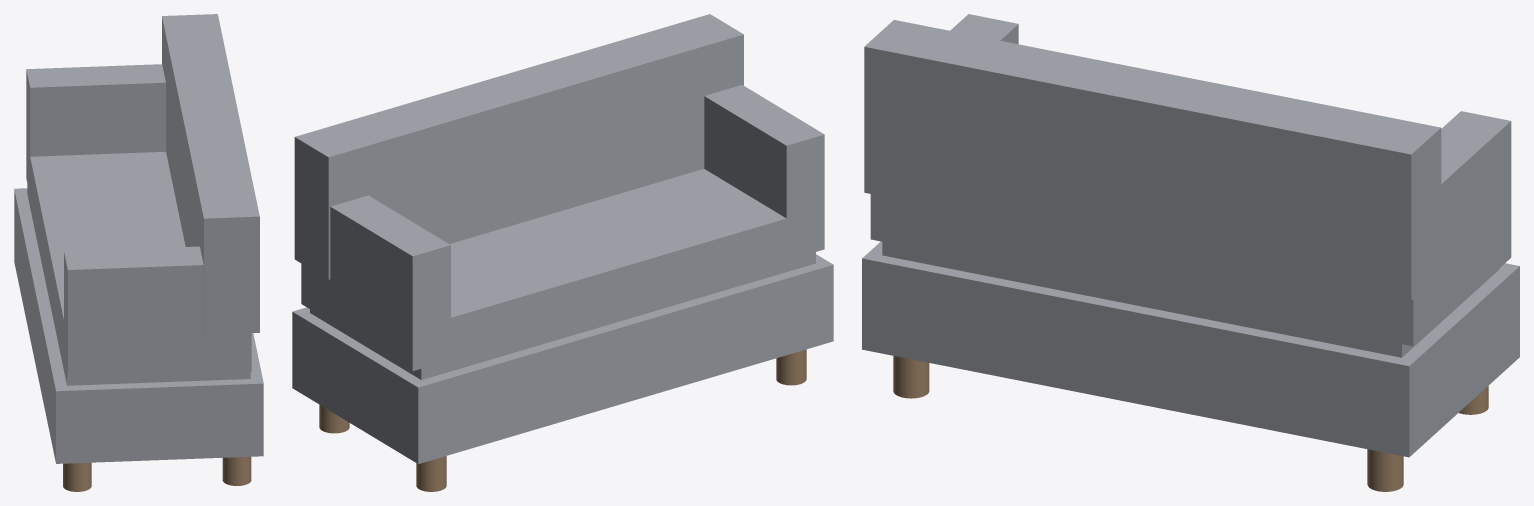
Rendered from beso-velvet-sofa-3-seater.glb.
The picture shows the model from 3 angles, left to right: view 1: azimuth 30°, elevation 25°; view 2: azimuth 150°, elevation 25°; view 3: azimuth 270°, elevation 25°; orthographic projection. The views are drawn at different scales.
Bounding box in the file's own units: 48.92 × 38 × 65.37.
